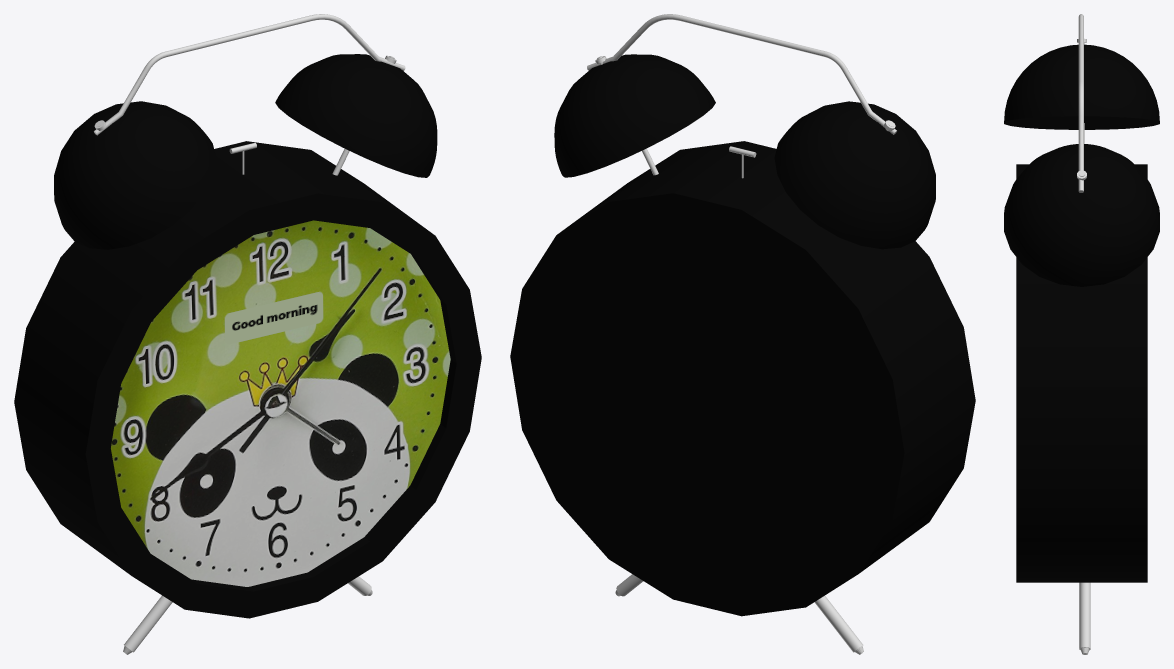
The model's file is Alarm clock.fbx.
The picture shows the model from 3 angles, left to right: view 1: azimuth 30°, elevation 25°; view 2: azimuth 150°, elevation 25°; view 3: azimuth 270°, elevation 25°; orthographic projection. The views are drawn at different scales.
Parts seen in each view (by area): view 1: alarm clock; view 2: alarm clock; view 3: alarm clock.
Part boxes in pixels (x1=…): alarm clock: x1=14, y1=14, x2=481, y2=654; alarm clock: x1=510, y1=14, x2=975, y2=654; alarm clock: x1=1004, y1=14, x2=1159, y2=654.
Size of the model in its own units: 16 by 23.01 by 5.94.
Materials: 1 (1 with a texture image).
